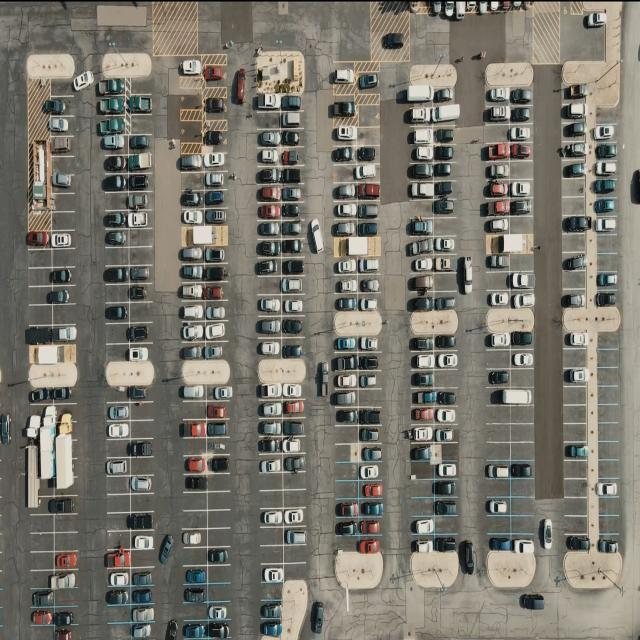space-empty: (128, 113, 154, 134), (560, 196, 588, 215), (106, 322, 130, 344), (179, 120, 203, 142), (53, 304, 77, 326), (28, 305, 53, 326), (562, 234, 588, 254), (104, 283, 130, 303), (484, 348, 510, 368), (562, 176, 588, 196), (129, 228, 155, 248), (182, 510, 208, 530), (255, 275, 281, 295), (510, 496, 536, 516), (487, 406, 513, 426), (103, 191, 130, 210), (563, 348, 587, 369), (595, 235, 620, 255), (563, 404, 588, 424), (106, 529, 131, 549), (335, 461, 360, 481), (130, 402, 155, 422), (29, 286, 54, 306), (561, 270, 587, 289), (510, 479, 536, 498), (483, 125, 509, 144), (408, 200, 434, 219), (180, 400, 206, 419), (181, 492, 207, 511), (130, 302, 152, 324), (356, 106, 379, 127), (106, 476, 130, 496), (563, 385, 587, 405), (28, 248, 52, 268), (563, 479, 587, 499), (207, 490, 231, 510), (30, 514, 54, 534), (335, 424, 359, 444), (260, 489, 284, 509), (31, 552, 55, 572), (563, 496, 587, 516), (208, 527, 232, 547), (105, 493, 130, 512), (104, 439, 129, 458), (51, 210, 76, 229), (131, 550, 156, 569), (409, 460, 434, 479), (487, 516, 512, 535), (434, 217, 459, 236), (129, 456, 154, 475), (510, 252, 535, 271), (485, 442, 510, 461), (511, 368, 536, 387), (51, 77, 76, 96), (512, 516, 537, 535), (182, 439, 207, 458), (182, 548, 208, 566), (130, 493, 156, 511), (128, 76, 154, 94), (485, 480, 511, 498), (182, 602, 208, 620), (254, 111, 280, 129), (486, 272, 512, 290), (104, 247, 128, 266), (28, 268, 52, 287), (509, 162, 533, 181), (55, 588, 79, 607), (260, 527, 284, 546), (30, 532, 54, 551), (52, 157, 76, 176), (282, 544, 306, 563), (410, 496, 434, 515), (564, 458, 588, 477), (130, 246, 154, 265), (31, 569, 55, 588), (131, 419, 155, 438), (563, 423, 587, 442), (511, 442, 535, 461), (208, 511, 232, 530), (355, 127, 379, 146), (282, 489, 306, 508), (596, 366, 620, 385), (260, 472, 284, 491), (410, 479, 434, 498), (596, 348, 620, 367), (436, 370, 460, 389), (485, 423, 509, 442), (435, 516, 460, 534), (107, 604, 132, 622), (511, 424, 536, 442), (598, 422, 620, 442), (52, 192, 75, 211), (56, 531, 79, 550), (106, 513, 129, 532), (208, 564, 231, 583), (283, 562, 306, 581), (179, 172, 203, 190), (261, 546, 285, 564), (262, 584, 286, 602), (564, 516, 588, 534), (510, 216, 534, 234), (596, 256, 620, 274), (335, 481, 359, 499), (596, 332, 620, 350), (28, 210, 48, 231), (438, 443, 459, 463), (597, 404, 619, 423), (358, 388, 380, 407), (598, 459, 620, 478), (598, 516, 620, 535), (597, 385, 619, 404), (208, 583, 230, 602), (53, 249, 76, 267), (55, 515, 78, 533), (282, 471, 305, 489), (334, 165, 357, 183), (105, 384, 128, 402), (434, 274, 457, 292), (335, 444, 358, 462), (207, 473, 230, 491), (105, 345, 129, 362), (598, 442, 619, 461), (596, 106, 618, 124), (180, 94, 203, 111), (335, 536, 359, 552), (108, 624, 132, 640), (598, 498, 618, 516), (30, 626, 54, 640)
space-occupied: (490, 384, 534, 405), (432, 103, 460, 125), (100, 134, 129, 155), (127, 94, 154, 116), (590, 176, 618, 197), (98, 96, 127, 116), (99, 114, 128, 134), (333, 64, 357, 88), (256, 293, 282, 315), (561, 214, 589, 234), (560, 102, 588, 122), (50, 134, 75, 156), (49, 93, 74, 115), (333, 98, 358, 120), (408, 179, 434, 200), (406, 105, 433, 125), (179, 382, 206, 402), (101, 153, 128, 173), (560, 121, 588, 140), (104, 303, 128, 325), (562, 287, 587, 308), (203, 128, 228, 149), (48, 116, 74, 136), (103, 229, 129, 249), (485, 458, 511, 478), (103, 266, 129, 286), (104, 419, 130, 439), (562, 140, 588, 160), (26, 230, 52, 250), (257, 316, 283, 336), (592, 215, 618, 235), (484, 178, 510, 198), (510, 271, 536, 291), (255, 258, 281, 278), (411, 386, 437, 406), (486, 288, 512, 308), (181, 620, 207, 640), (180, 56, 202, 79), (28, 327, 52, 348), (128, 153, 152, 174), (280, 296, 304, 317), (204, 64, 228, 85), (487, 495, 511, 516), (511, 348, 536, 368), (562, 252, 587, 272), (484, 104, 509, 124), (333, 125, 358, 145), (262, 562, 287, 582), (280, 275, 305, 295), (106, 550, 131, 570), (180, 418, 205, 438), (179, 264, 204, 284), (258, 202, 283, 222), (259, 398, 284, 418), (485, 87, 511, 106), (591, 124, 617, 143), (560, 160, 586, 179), (178, 282, 204, 301), (484, 142, 510, 161), (408, 163, 434, 182), (408, 237, 434, 256), (485, 332, 511, 351), (408, 216, 434, 235), (410, 351, 436, 370), (406, 86, 432, 105), (411, 368, 437, 387), (334, 353, 360, 372), (484, 214, 510, 233), (100, 77, 127, 95), (333, 388, 360, 406), (484, 199, 511, 217), (130, 321, 152, 343), (281, 316, 304, 337), (204, 93, 227, 114), (130, 475, 154, 495), (511, 459, 535, 479), (178, 152, 202, 172), (130, 265, 154, 285), (105, 400, 129, 420), (256, 238, 280, 258), (105, 456, 129, 476), (564, 442, 588, 462), (52, 267, 76, 287), (356, 181, 380, 201), (132, 530, 156, 550), (130, 439, 154, 459), (180, 302, 204, 322), (260, 454, 284, 474), (434, 290, 458, 310), (258, 338, 282, 358), (184, 527, 208, 547), (183, 474, 207, 494), (184, 584, 208, 604), (204, 281, 228, 301), (409, 127, 433, 147), (411, 255, 435, 275), (51, 284, 75, 304), (129, 135, 154, 154), (563, 332, 588, 351), (410, 516, 435, 535), (435, 350, 460, 369), (410, 443, 435, 462), (254, 93, 279, 112), (335, 407, 360, 426), (334, 371, 359, 390), (487, 368, 512, 387), (434, 479, 459, 498), (409, 423, 434, 442), (259, 418, 284, 437), (511, 289, 536, 308), (180, 207, 205, 226), (409, 273, 434, 292), (28, 383, 53, 402), (592, 198, 618, 216), (357, 72, 379, 93), (204, 320, 226, 341), (281, 338, 303, 359), (52, 230, 75, 250), (355, 144, 378, 164), (204, 170, 227, 190), (208, 600, 231, 620), (262, 600, 285, 620), (356, 201, 379, 221), (258, 146, 281, 166), (280, 146, 303, 166), (281, 218, 304, 238), (359, 444, 382, 464), (595, 288, 618, 308), (180, 321, 203, 341), (261, 509, 285, 528), (563, 366, 587, 385), (510, 141, 534, 160), (204, 152, 228, 171), (182, 456, 206, 475), (31, 608, 55, 627), (183, 565, 207, 584), (258, 219, 282, 238), (54, 324, 78, 343), (281, 258, 305, 277), (281, 453, 305, 472), (55, 606, 79, 625), (410, 292, 434, 311), (355, 163, 379, 182), (335, 275, 359, 294), (204, 265, 228, 284), (107, 568, 131, 587), (131, 513, 155, 532), (334, 201, 358, 220), (335, 258, 359, 277), (486, 161, 510, 180), (104, 210, 129, 228), (104, 173, 129, 191), (509, 198, 534, 216), (357, 462, 382, 480), (561, 84, 586, 102), (565, 534, 590, 552), (488, 534, 513, 552), (335, 295, 360, 313), (205, 302, 227, 322), (597, 534, 619, 554), (54, 382, 76, 402), (511, 88, 534, 107), (52, 174, 75, 193), (31, 589, 54, 608), (510, 125, 533, 144), (56, 569, 79, 588), (55, 552, 78, 571), (510, 178, 533, 197), (280, 110, 303, 129), (510, 105, 533, 124), (333, 144, 356, 163), (283, 526, 306, 545), (207, 418, 230, 437), (207, 455, 230, 474), (434, 255, 457, 274), (357, 408, 380, 427), (358, 424, 381, 443), (207, 402, 230, 421), (282, 398, 305, 417), (208, 621, 231, 640), (334, 182, 358, 200), (129, 210, 153, 228), (180, 189, 204, 207), (256, 167, 280, 185), (434, 236, 458, 254), (335, 336, 359, 354), (511, 332, 535, 350), (129, 191, 153, 209), (258, 130, 282, 148), (594, 161, 618, 179), (409, 144, 433, 162), (258, 184, 282, 202), (129, 173, 153, 191), (336, 498, 360, 516), (594, 142, 618, 160), (358, 518, 382, 536), (281, 238, 305, 256), (412, 407, 436, 425), (334, 218, 358, 236), (280, 184, 304, 202), (53, 496, 77, 514), (358, 498, 382, 516), (180, 245, 204, 263), (486, 254, 510, 272), (280, 437, 304, 455), (202, 342, 226, 360), (512, 534, 536, 552), (207, 384, 232, 401), (208, 547, 230, 566), (434, 162, 456, 181), (283, 508, 305, 527), (132, 567, 154, 586), (280, 129, 302, 148), (436, 407, 458, 426), (261, 621, 283, 640), (435, 200, 458, 218), (204, 189, 227, 207), (435, 179, 458, 197), (596, 272, 619, 290), (434, 87, 457, 105), (280, 94, 303, 112), (281, 418, 304, 436), (260, 438, 283, 456), (129, 344, 152, 362), (358, 534, 381, 552), (280, 167, 303, 185), (108, 588, 132, 605), (435, 461, 459, 478), (258, 383, 282, 400), (358, 482, 382, 499), (179, 343, 203, 360), (437, 387, 458, 406), (130, 283, 152, 301), (132, 588, 154, 606), (280, 202, 302, 220), (358, 276, 380, 294), (436, 497, 458, 515), (131, 622, 153, 640), (436, 425, 458, 443), (356, 295, 378, 313), (133, 604, 155, 622), (204, 246, 226, 264), (434, 145, 457, 162), (337, 518, 360, 535), (434, 127, 457, 144), (435, 335, 458, 352), (410, 336, 434, 352), (598, 480, 618, 499), (358, 371, 378, 390), (357, 353, 378, 371), (356, 219, 378, 236), (357, 337, 379, 354), (204, 209, 226, 226), (281, 383, 304, 399), (357, 256, 377, 274), (130, 386, 152, 402), (55, 627, 77, 640)
